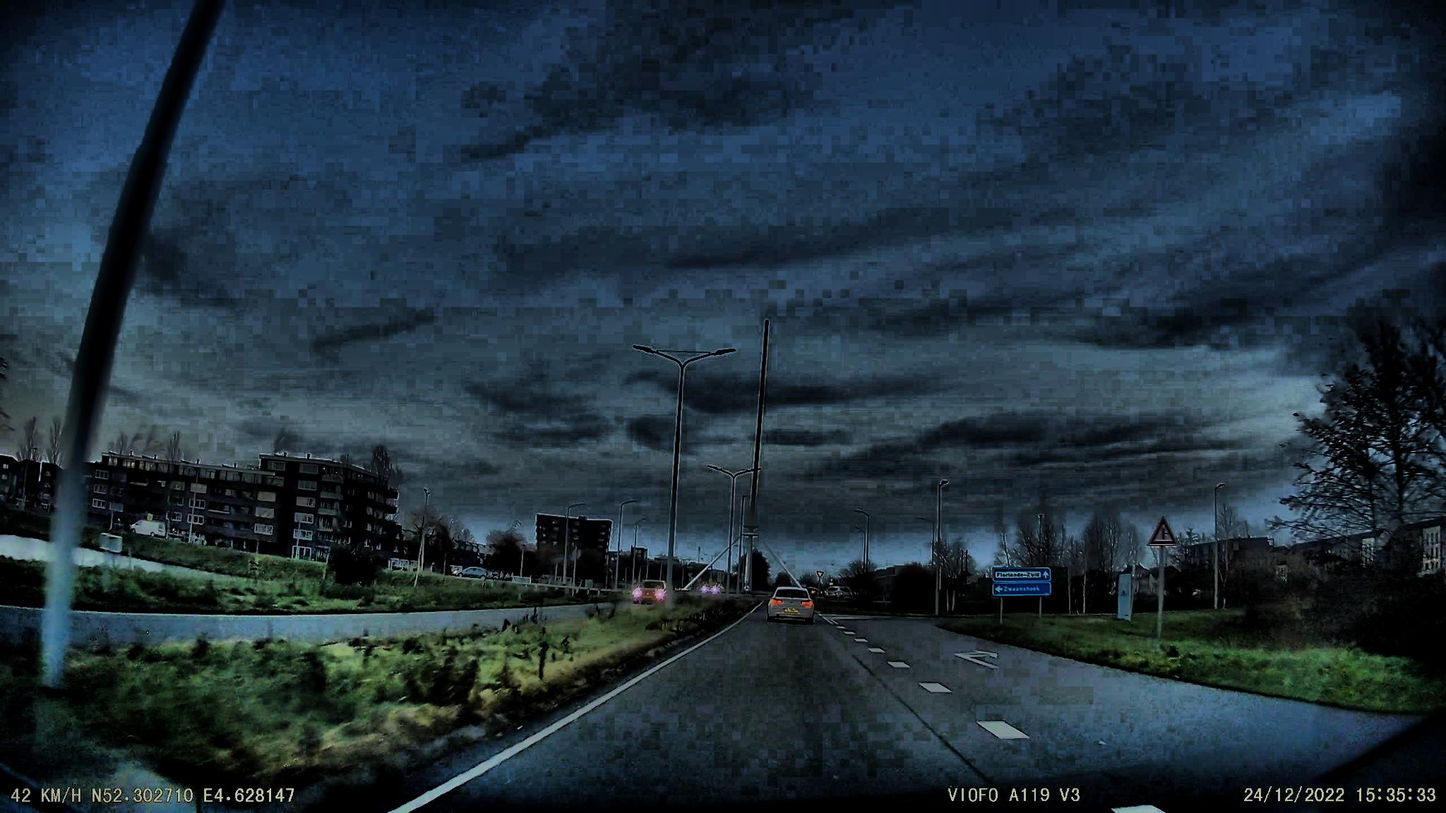Roads: (242, 619, 1446, 813)
